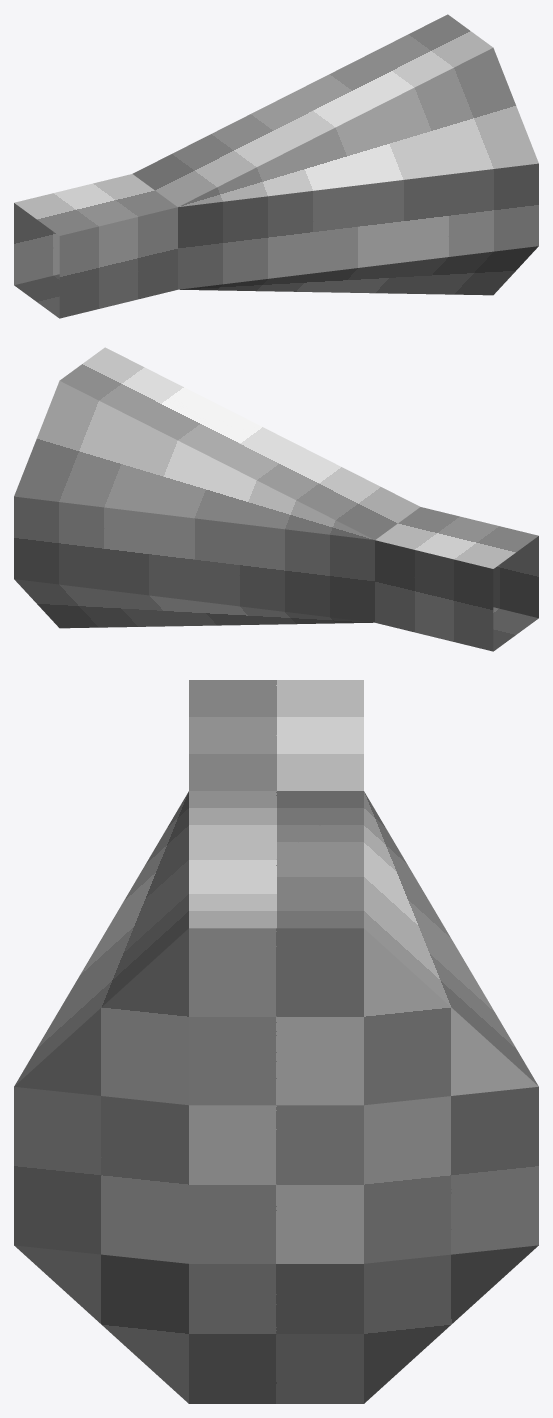
Rendered from broom_brush.obj.
The picture shows the model from 3 angles, top to bottom: view 1: azimuth 30°, elevation 25°; view 2: azimuth 150°, elevation 25°; view 3: azimuth 270°, elevation 25°; orthographic projection. The views are drawn at different scales.
Visible parts, largest first — view 1: BROOM_BRUSH_TINTABLE_Cube.017; view 2: BROOM_BRUSH_TINTABLE_Cube.017; view 3: BROOM_BRUSH_TINTABLE_Cube.017.
Part boxes in pixels (x1,y1,x2,y2): BROOM_BRUSH_TINTABLE_Cube.017: (14,14,538,318); BROOM_BRUSH_TINTABLE_Cube.017: (14,347,538,651); BROOM_BRUSH_TINTABLE_Cube.017: (14,680,538,1403).
Bounding box in the file's own units: 0.7188 × 0.375 × 0.375.
